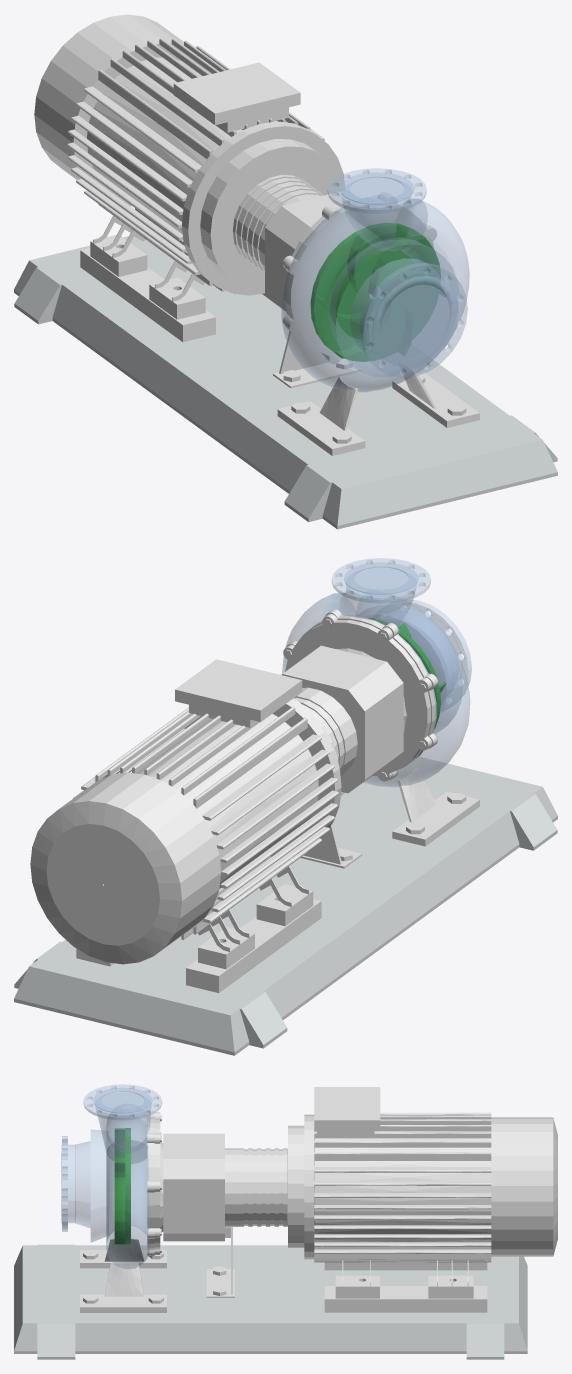
3 views of the same model, one above another, from view 1: azimuth 30°, elevation 25°; view 2: azimuth 150°, elevation 25°; view 3: azimuth 270°, elevation 25° (orthographic). The views are drawn at different scales.
Parts seen in each view (by area): view 1: 主体, 底座, 透明外壳, 叶轮; view 2: 主体, 底座, 透明外壳, 叶轮; view 3: 主体, 底座, 透明外壳, 叶轮.
Boxes of the visible parts, x1,y1,x2,y2 form: 主体: (34, 14, 479, 455); 底座: (14, 236, 557, 529); 透明外壳: (281, 168, 469, 391); 叶轮: (310, 223, 440, 361); 主体: (30, 609, 479, 992); 底座: (14, 756, 557, 1055); 透明外壳: (282, 558, 471, 786); 叶轮: (368, 618, 446, 728); 主体: (80, 1087, 557, 1312); 底座: (14, 1244, 527, 1359); 透明外壳: (61, 1084, 161, 1268); 叶轮: (114, 1128, 130, 1244).
Bounding box in the file's own units: 46.21 × 46.95 × 110.
